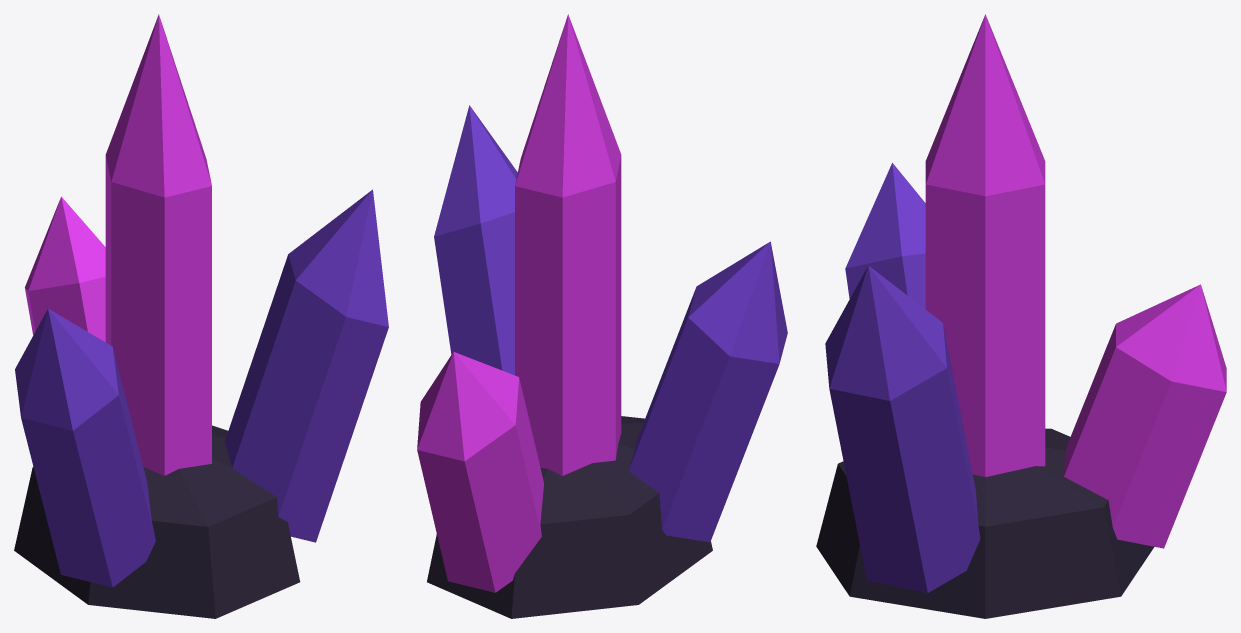
Rendered from env_r16_void_crystal.glb.
3 renders of one model, left to right at view 1: azimuth 30°, elevation 25°; view 2: azimuth 150°, elevation 25°; view 3: azimuth 270°, elevation 25°, orthographic.
Parts seen in each view (by area): view 1: env_r16_void_crystal; view 2: env_r16_void_crystal; view 3: env_r16_void_crystal.
Part boxes in pixels (x1,y1,x2,y2): env_r16_void_crystal: [14, 14, 388, 618]; env_r16_void_crystal: [417, 14, 787, 618]; env_r16_void_crystal: [816, 14, 1226, 618].
Bounding box in the file's own units: 1.5 × 2.2 × 1.5.
Materials: 1 (1 with a texture image).
